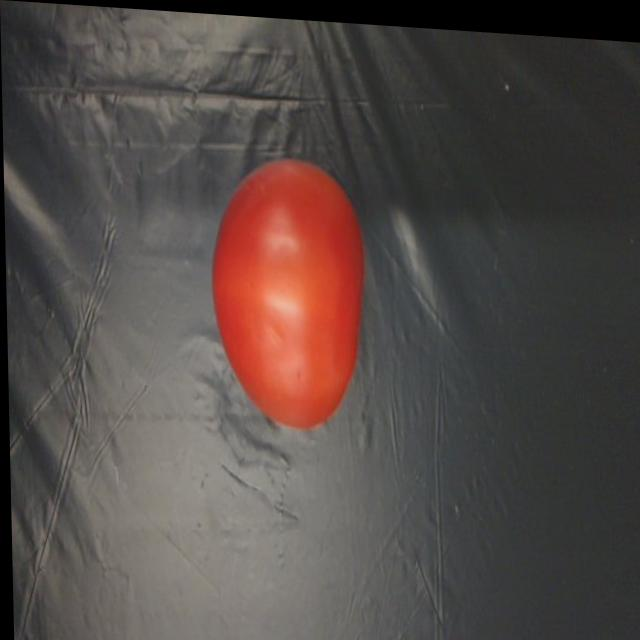kirmizi: (194, 138, 379, 422)
